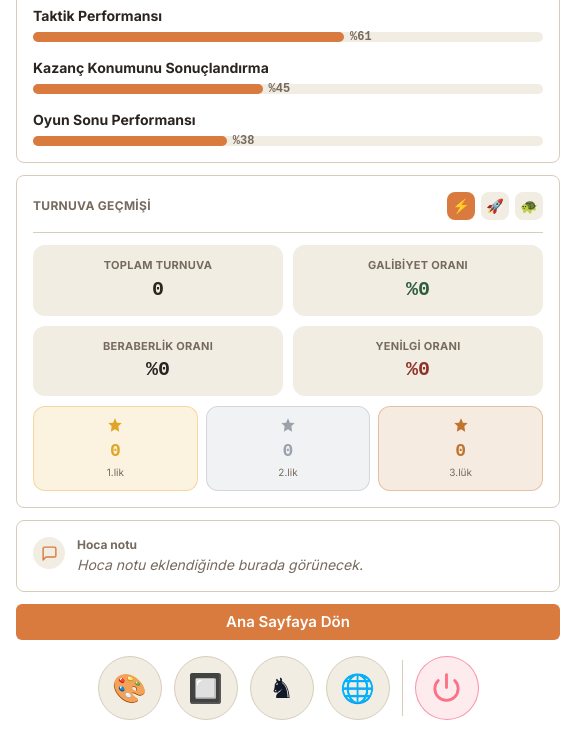
Scenario: Profil sayfası — alt ayar kartları (Tema/Tahta Rengi/Taş/Dil/Çıkış) › "Tahta Renklerini Değiştir" renk seçeneklerini gösterir
This screenshot has width=577, height=737.
(page scrolled)
Step 1. Click the button named "Tahta Renklerini Değiştir" → (206, 688), box [174,656,238,720]
(page scrolled)
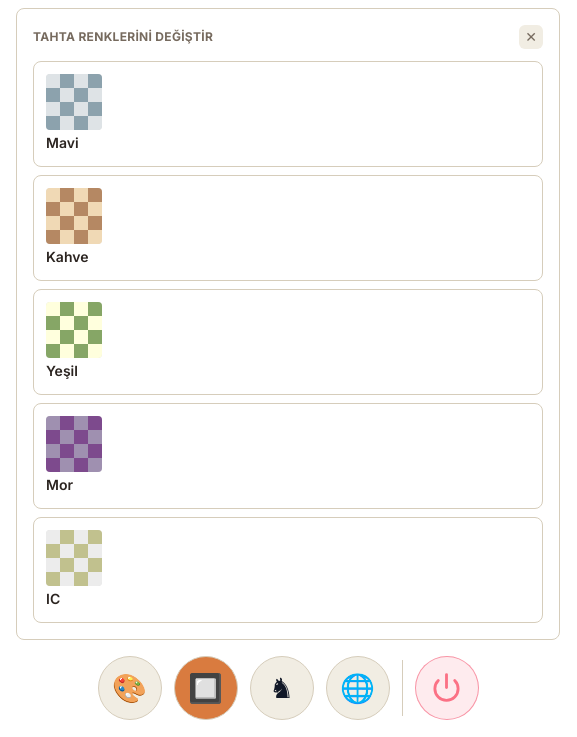
Check: the text "Mavi" is shown, box [46,134,79,151]
Check: the text "Kahve" is shown, box [46,248,88,265]
Check: the text "Yeşil" is shown, box [46,362,78,379]
